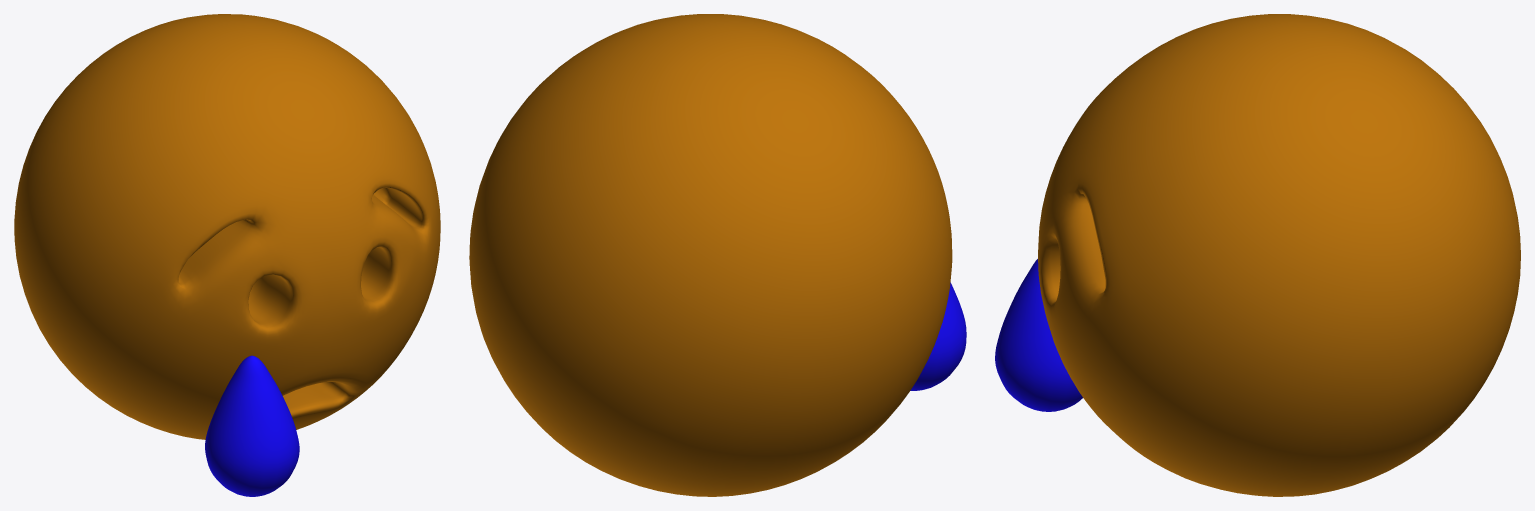
File: cry.FBX
3 renders of one model, left to right at view 1: azimuth 30°, elevation 25°; view 2: azimuth 150°, elevation 25°; view 3: azimuth 270°, elevation 25°, orthographic. The views are drawn at different scales.
Parts seen in each view (by area): view 1: Group12814, Group33367; view 2: Group12814, Group33367; view 3: Group12814, Group33367.
Part boxes in pixels (box(x1,y1,x2,y2)): Group12814: box(14, 14, 440, 439); Group33367: box(205, 355, 299, 496); Group12814: box(469, 14, 952, 496); Group33367: box(910, 282, 966, 390); Group12814: box(1038, 14, 1520, 496); Group33367: box(995, 259, 1082, 411).
Bounding box in the file's own units: 20.6 × 20.63 × 22.45.
